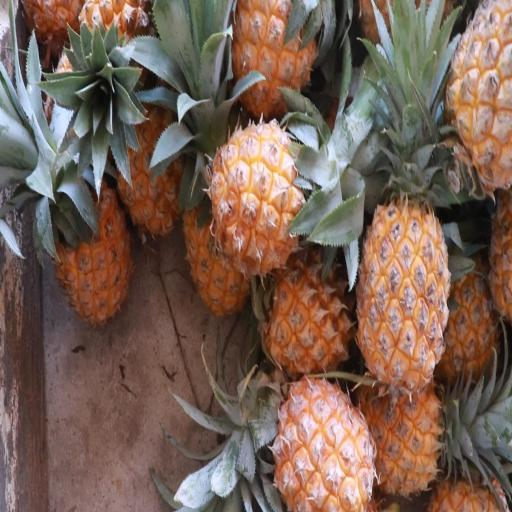Pineapple - v8 v1: (355, 166, 452, 397), (207, 111, 313, 281), (43, 144, 134, 330), (270, 369, 378, 512), (437, 3, 512, 199), (355, 348, 452, 499), (258, 242, 358, 386), (110, 65, 189, 241), (230, 1, 324, 125)
